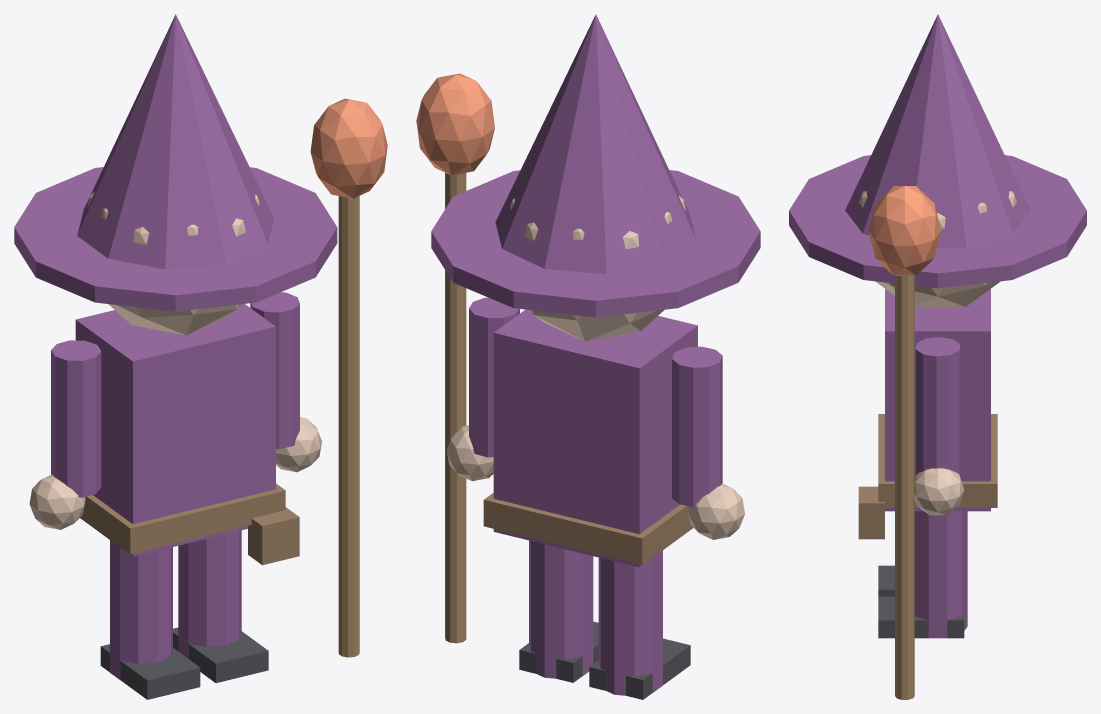
Rendered from mago_lowpoly_alt.glb.
3 renders of one model, left to right at view 1: azimuth 30°, elevation 25°; view 2: azimuth 150°, elevation 25°; view 3: azimuth 270°, elevation 25°, orthographic. The views are drawn at different scales.
Visible parts, largest first — view 1: mago_procedural; view 2: mago_procedural; view 3: mago_procedural.
Part boxes in pixels (left/top/right/bottom): mago_procedural: left=14, top=14, right=387, bottom=699; mago_procedural: left=416, top=14, right=760, bottom=699; mago_procedural: left=789, top=14, right=1086, bottom=699.
Bounding box in the file's own units: 1.06 × 2.04 × 0.9.
